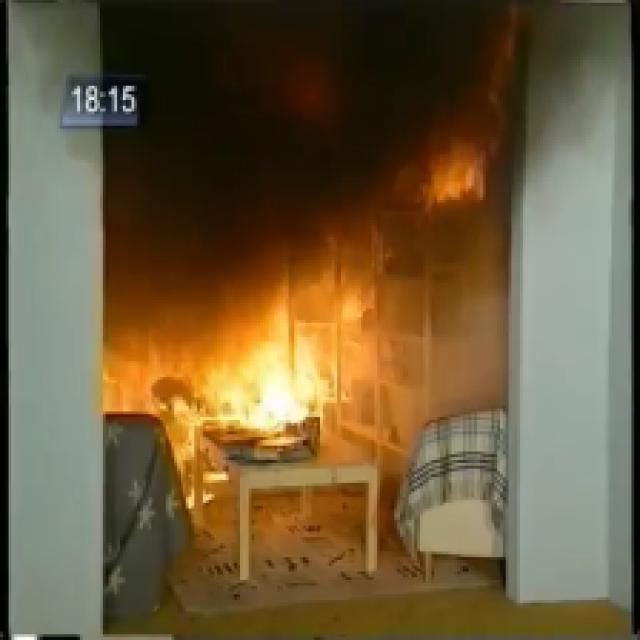Fire: (192, 338, 332, 431)
